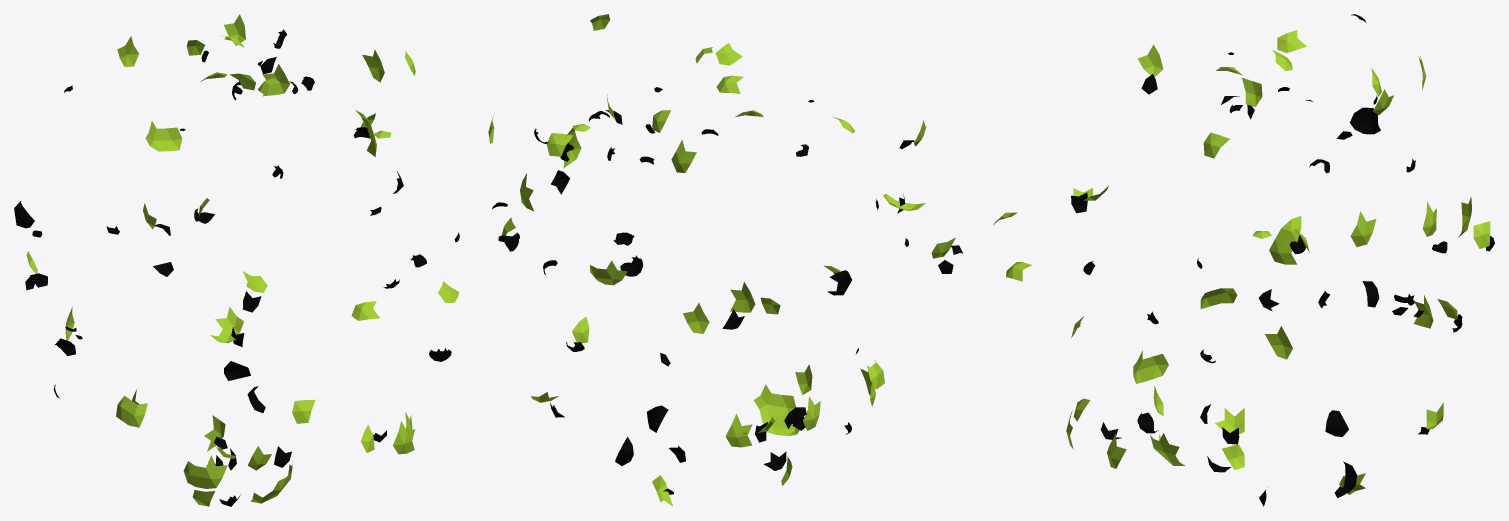
File: explode.f0016.glb
3 renders of one model, left to right at view 1: azimuth 30°, elevation 25°; view 2: azimuth 150°, elevation 25°; view 3: azimuth 270°, elevation 25°, orthographic. The views are drawn at different scales.
Parts seen in each view (by area): view 1: Body.001; view 2: Body.001; view 3: Body.001.
Boxes of the visible parts, box(x1,y1,x2,y2) form: Body.001: box(14, 14, 459, 506); Body.001: box(488, 14, 963, 506); Body.001: box(993, 14, 1494, 506).
Size of the model in its own units: 12.42 by 12.78 by 12.67.
1 material, 1 textured.
